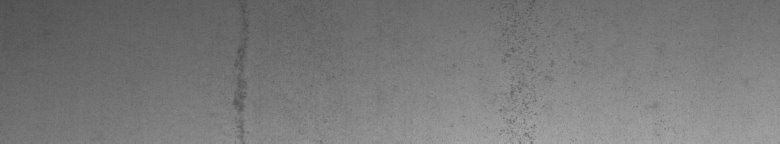ib: (496, 48, 553, 136)
